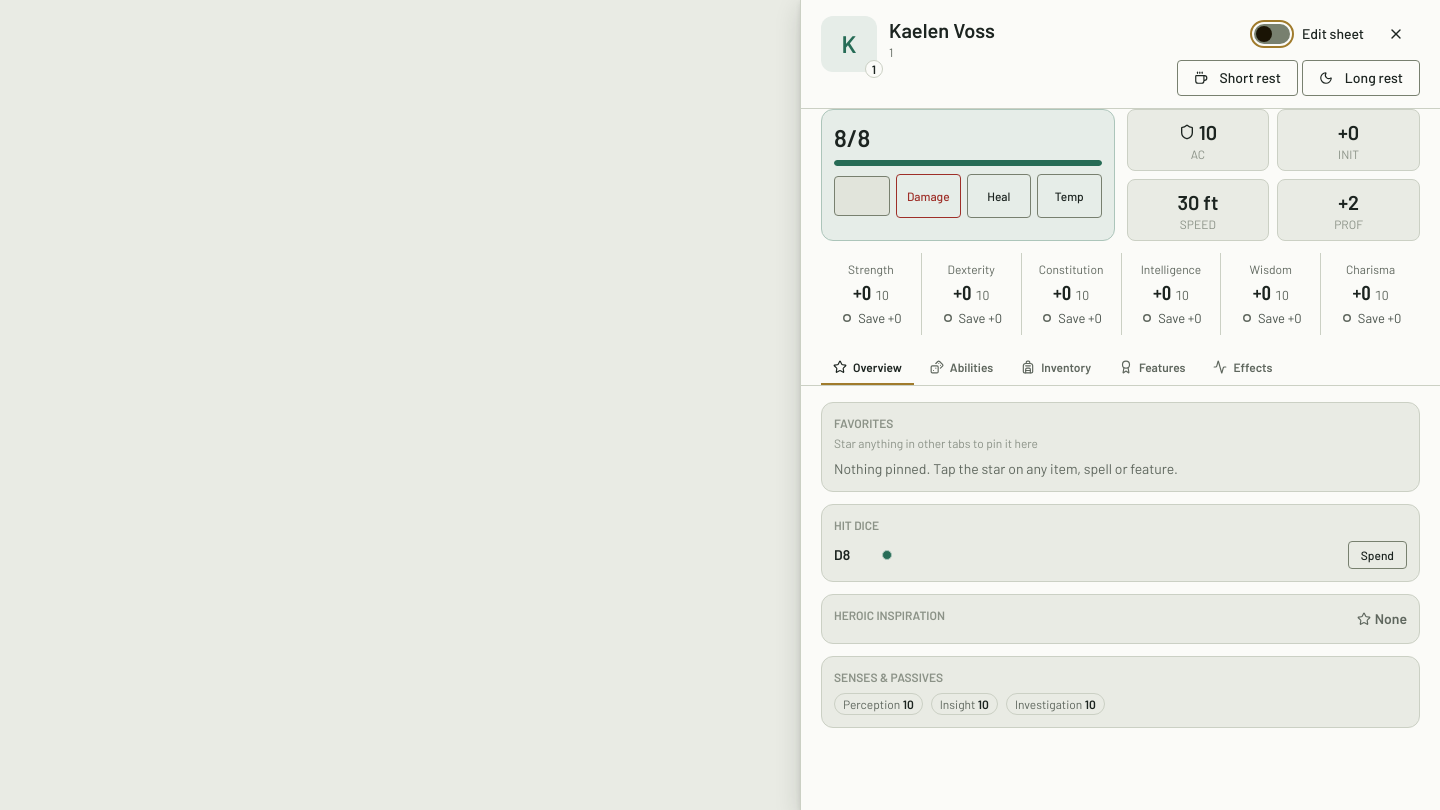
Scenario: SheetDrawer › shows and dismisses the editing banner
Click the switch named "Edit sheet" at (1272, 34), box x1=1254 y1=24 x2=1290 y2=44
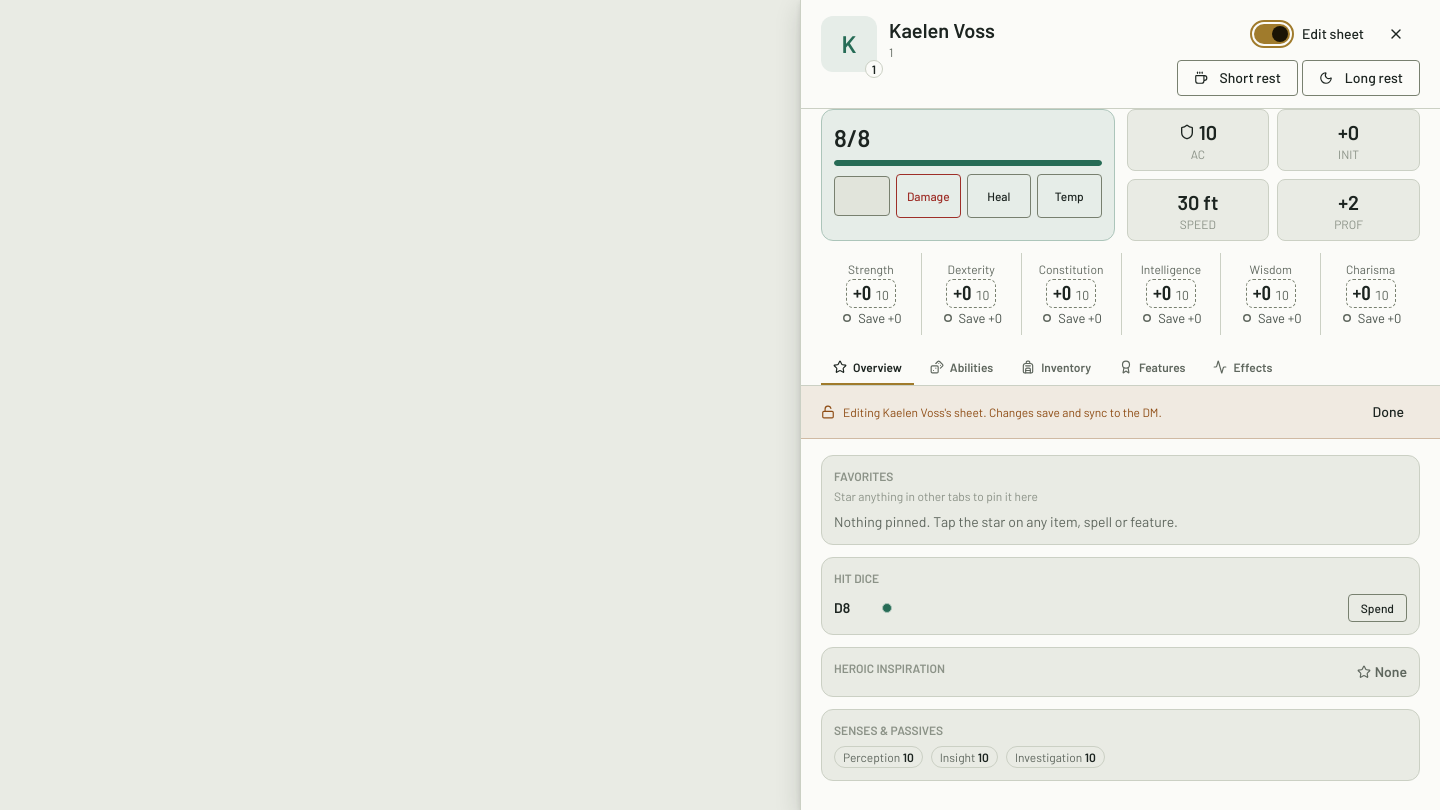
Now the text "Changes save and sync to the DM" is shown, box x1=944 y1=406 x2=1162 y2=420
Click the button "Done" at (1388, 412), box x1=1357 y1=394 x2=1420 y2=430
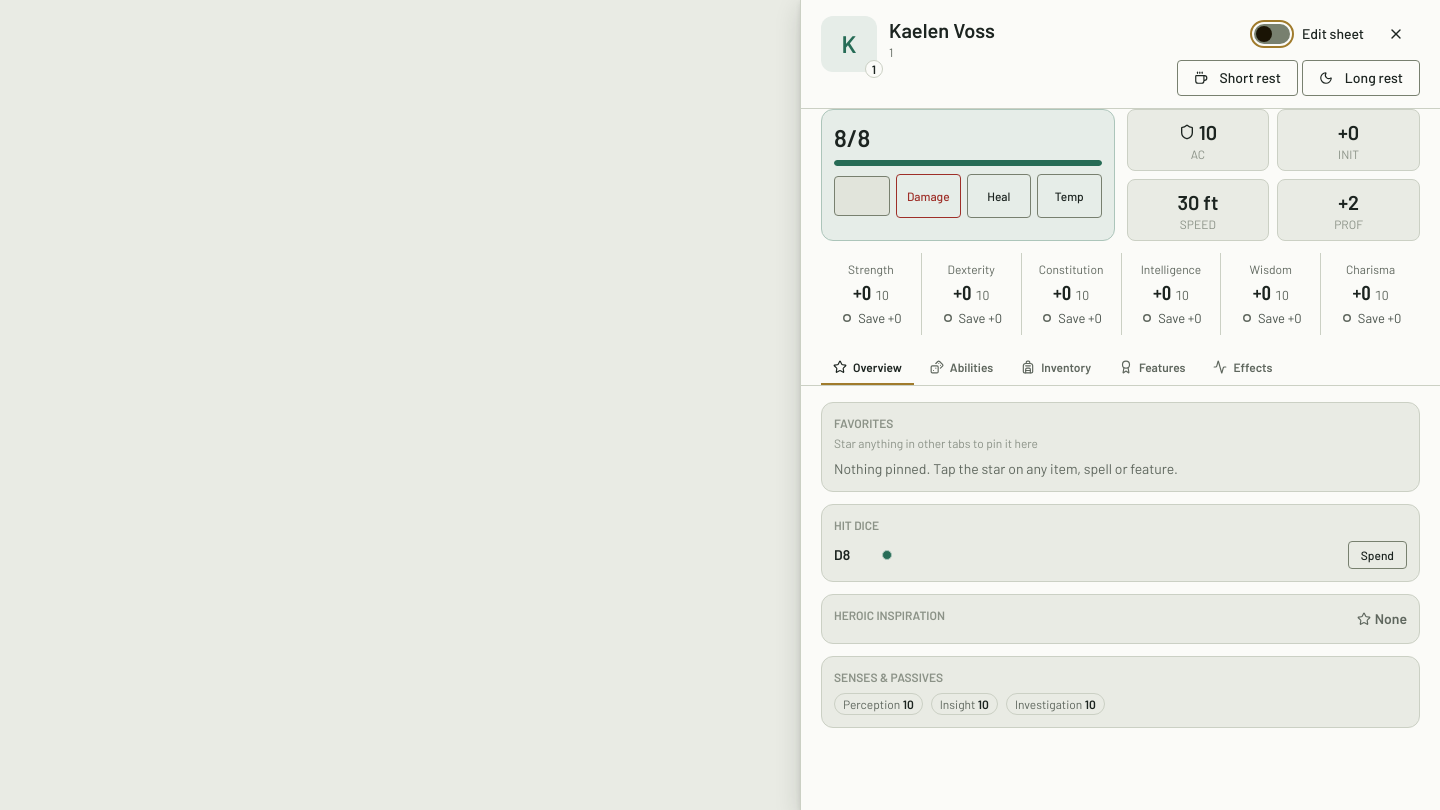
Now the text "Changes save and sync to the DM" is gone
